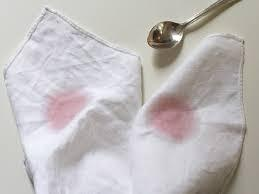oil: (144, 102, 202, 144), (46, 87, 86, 124)
